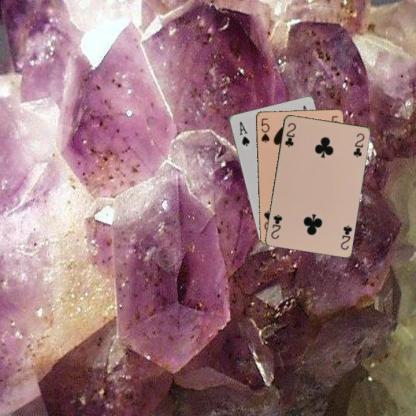2c: (338, 222, 353, 251), (282, 120, 297, 148)
5s: (258, 115, 270, 144)
As: (236, 118, 250, 147)
